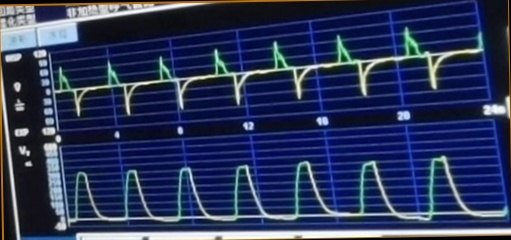Accumulation Flow: (54, 26, 473, 117)
Volume: (71, 149, 496, 226)
